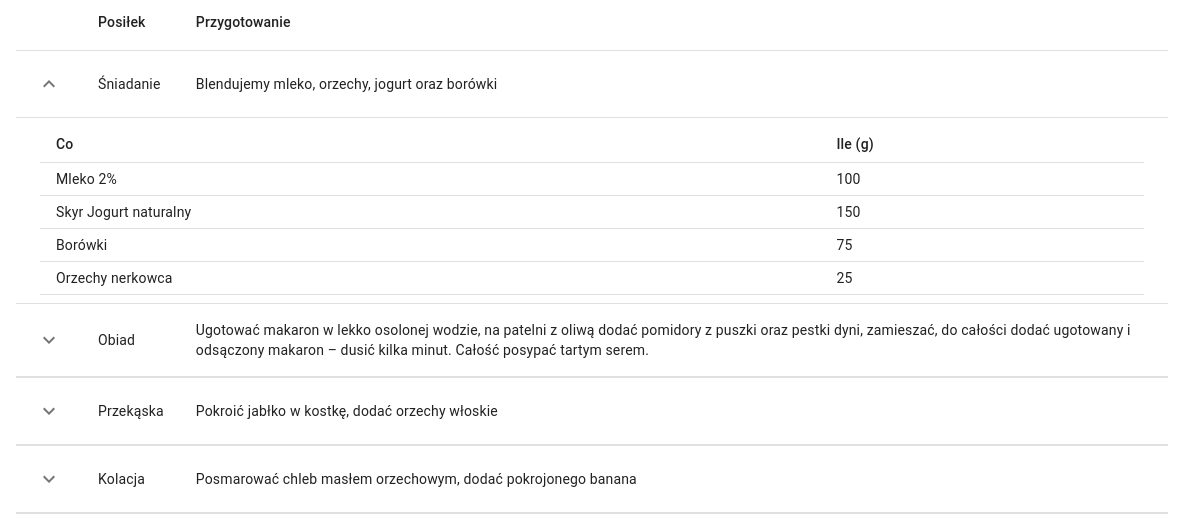
Test: Meals › should hide details about ingredients when meal is collapsed
Expected: the column heading "Śniadanie" is shown, [82,50,180,118]
Expected: the column heading "Mleko 2%" is shown, [40,162,820,196]
Click the button named "expand row" next to "Śniadanie" at (49, 84), box [32,67,66,101]
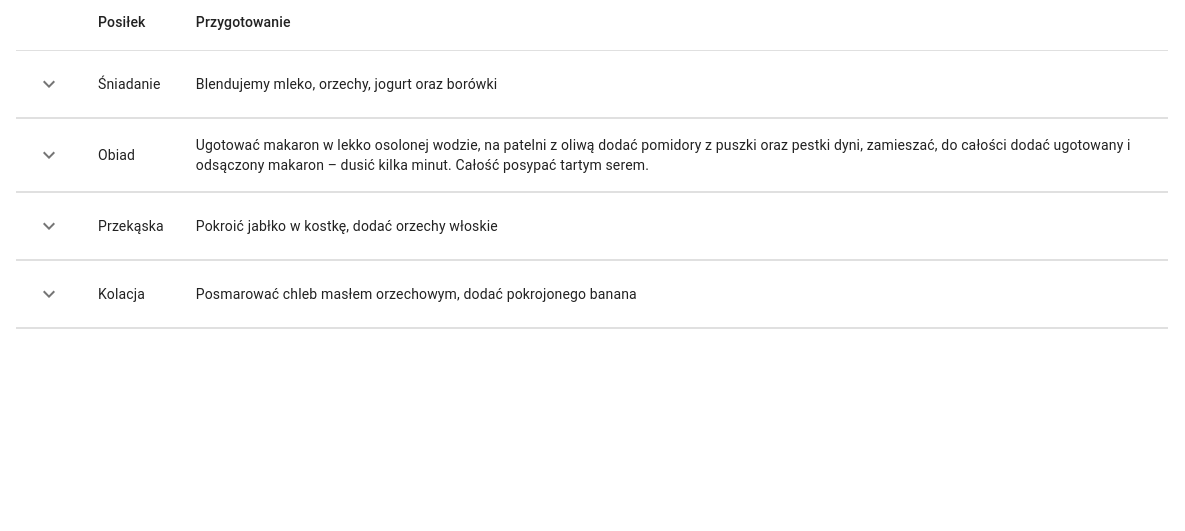
Expected: the column heading "Mleko 2%" is gone
Expected: the column heading "Skyr Jogurt naturalny" is gone
Expected: the column heading "Orzechy nerkowca" is gone
